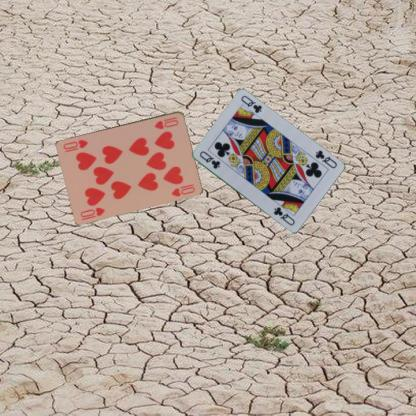10h: (78, 204, 106, 221), (152, 114, 180, 130)
Qc: (196, 148, 221, 171), (313, 147, 338, 170)
